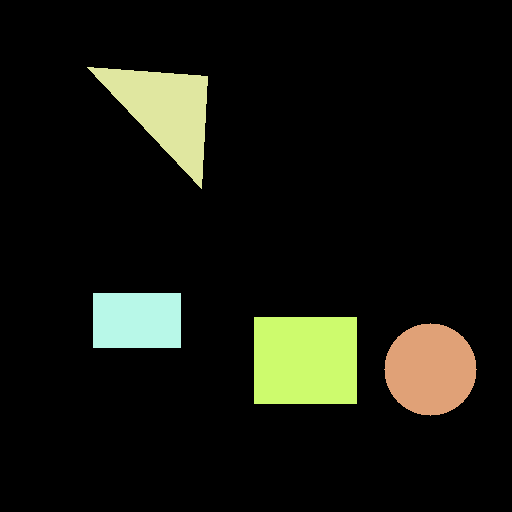circle: (384, 323, 476, 415)
rectangle: (254, 317, 356, 403), (93, 293, 180, 347)
triangle: (87, 67, 207, 188)
